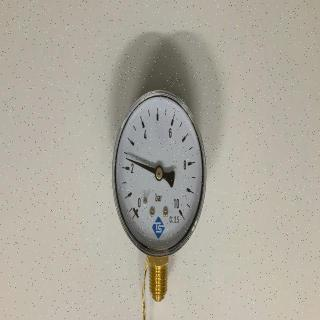gauge: (109, 55, 207, 277), (168, 196, 192, 224), (127, 206, 145, 226), (154, 167, 164, 180), (123, 154, 134, 164)
